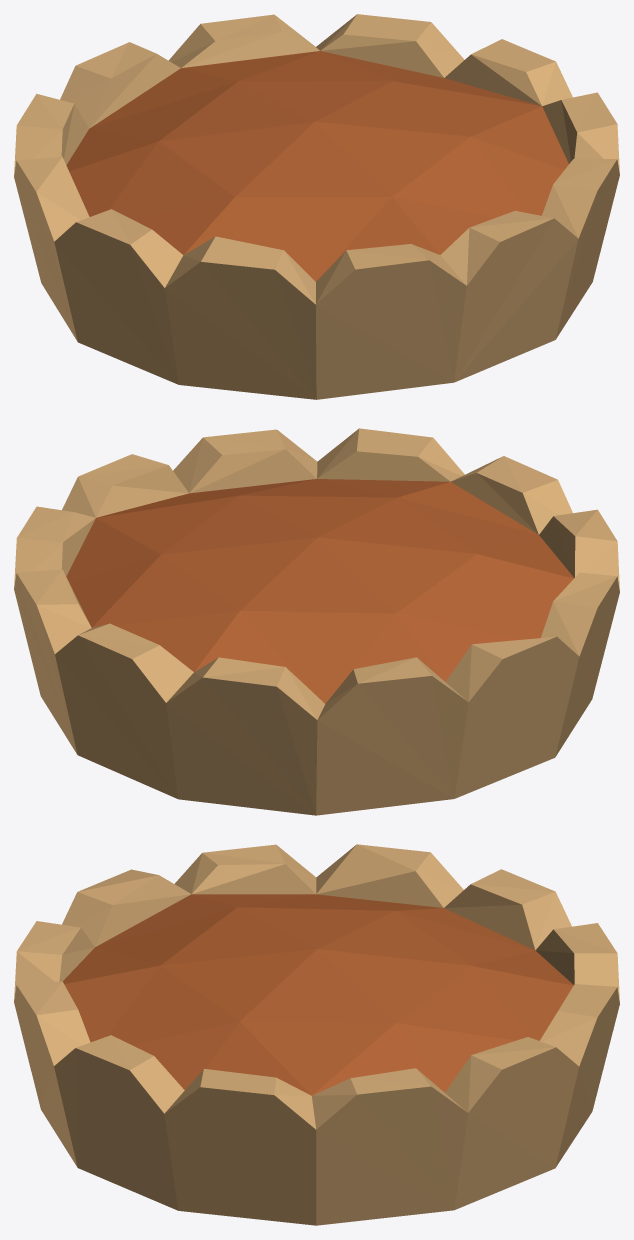
The model's file is tarte_cheese.fbx.
3 views of the same model, one above another, from view 1: azimuth 30°, elevation 25°; view 2: azimuth 150°, elevation 25°; view 3: azimuth 270°, elevation 25° (orthographic).
Visible parts, largest first — view 1: tarte_cheese; view 2: tarte_cheese; view 3: tarte_cheese.
Boxes of the visible parts, x1,y1,x2,y2 form: tarte_cheese: (14, 14, 619, 399); tarte_cheese: (14, 428, 619, 815); tarte_cheese: (14, 844, 619, 1225).
Bounding box in the file's own units: 9.84 × 2.91 × 9.84.
